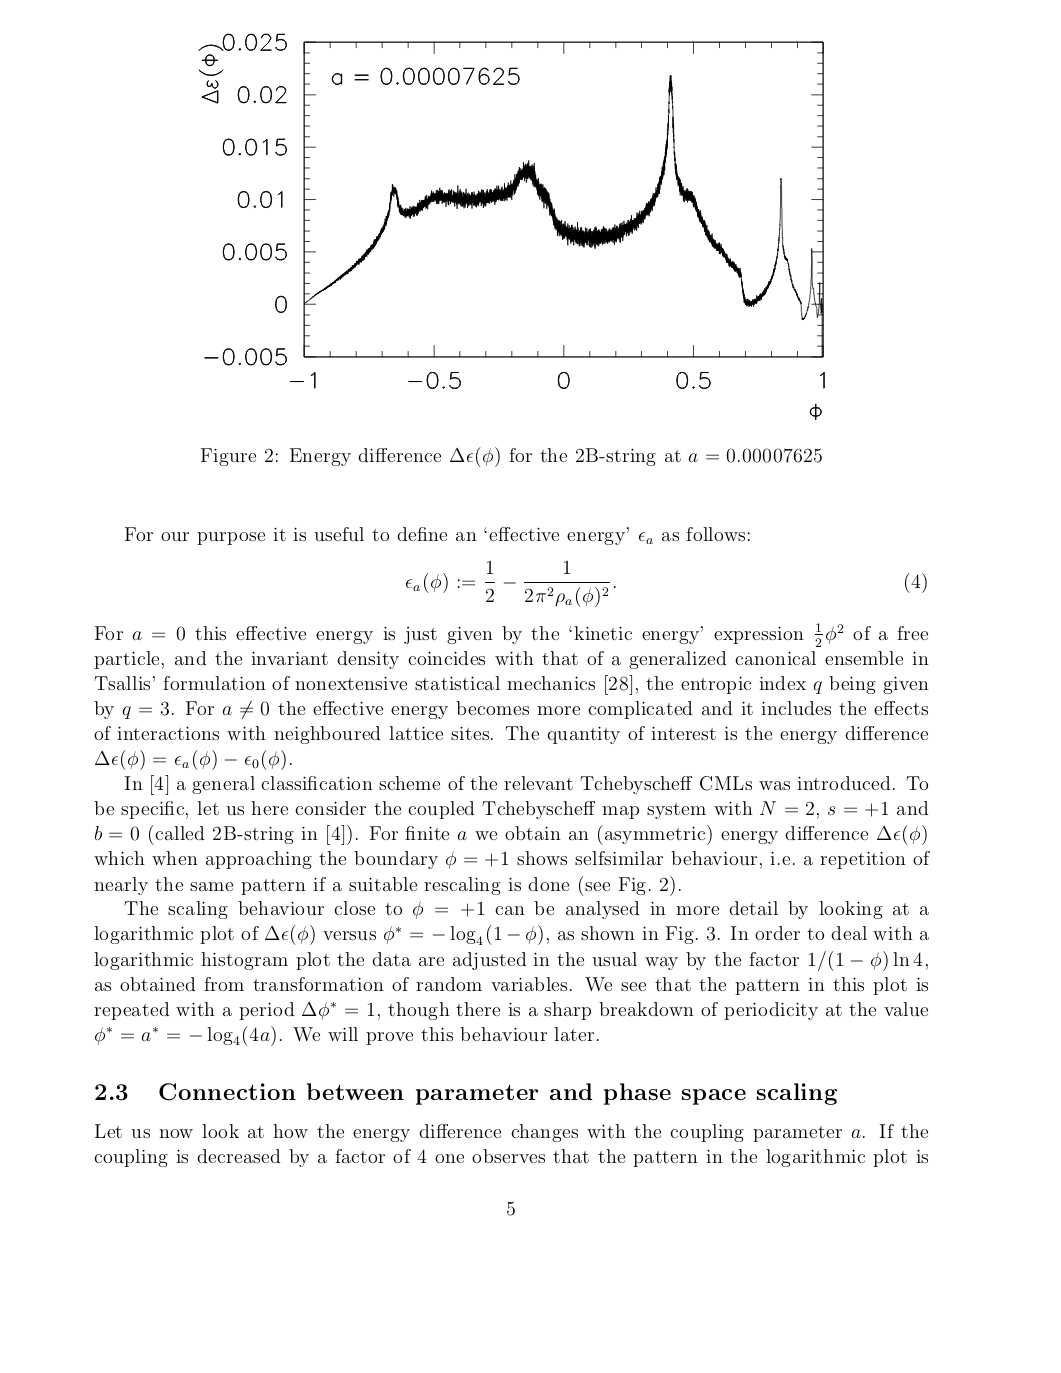figure: (198, 33, 824, 419)
formula: (406, 559, 926, 607)
